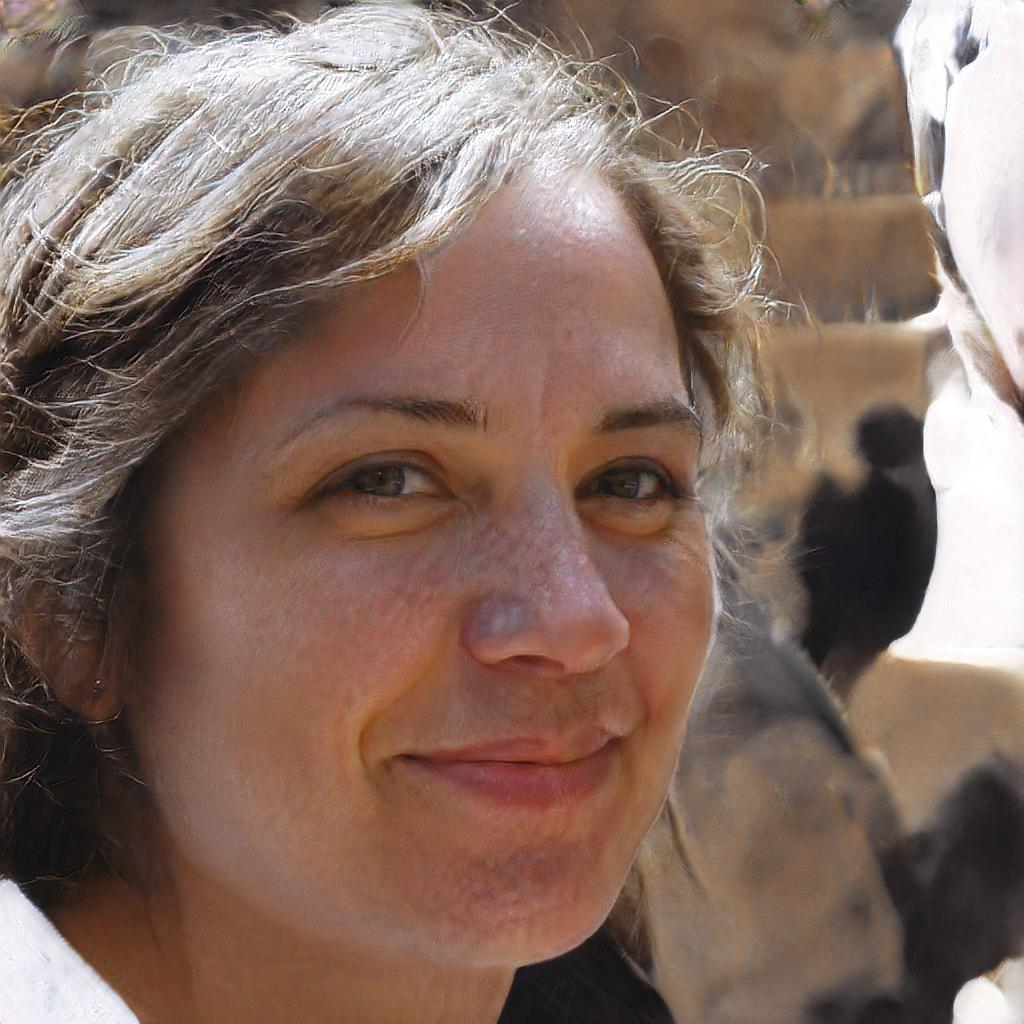face: (129, 182, 717, 968)
